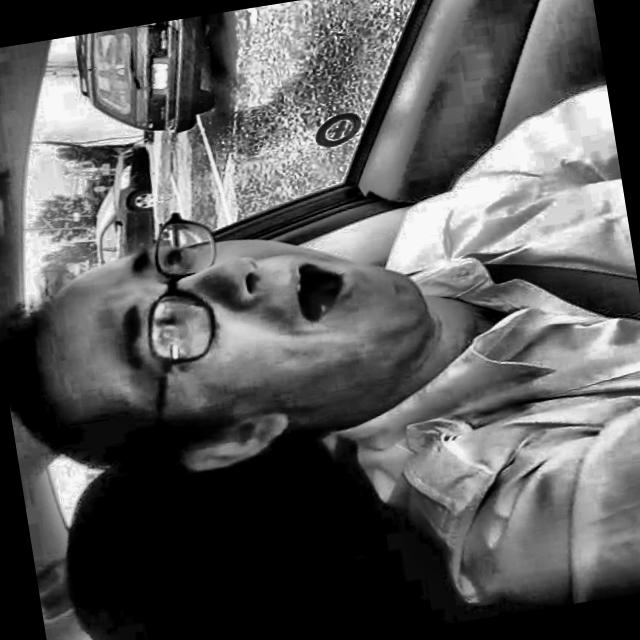open_mouth: (273, 244, 364, 340)
